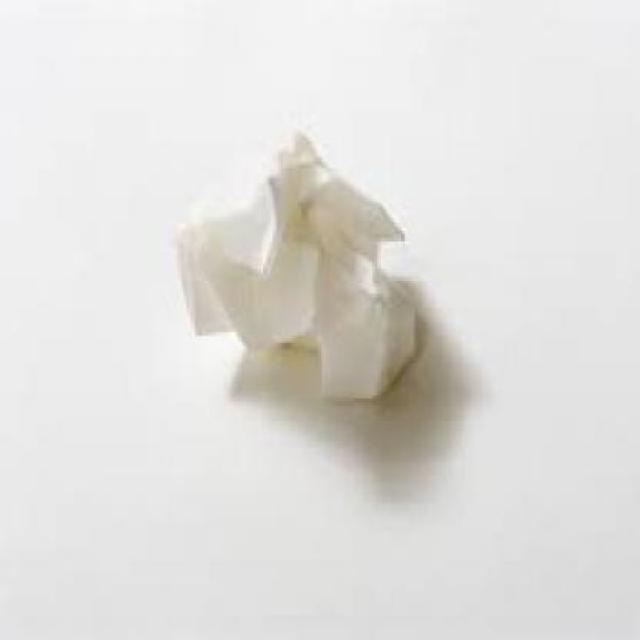giay: (177, 132, 423, 403)
